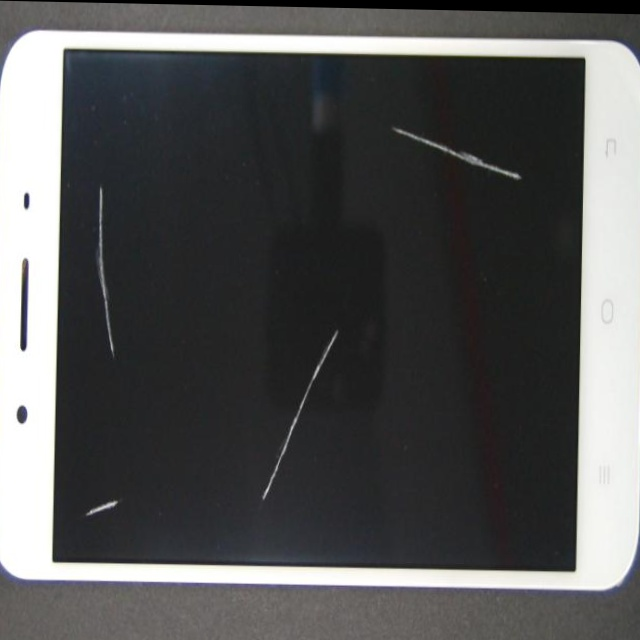scratch: (194, 64, 474, 548), (347, 121, 640, 226)
